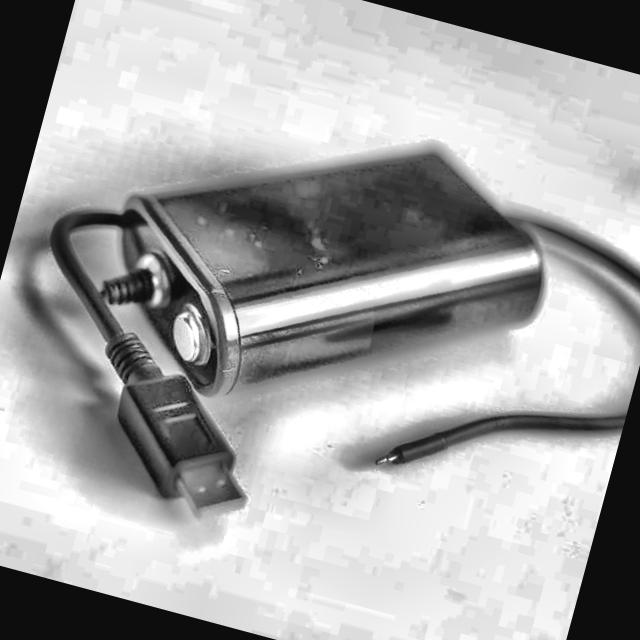Battery: (77, 70, 572, 482)
Cable: (0, 188, 310, 573), (368, 142, 640, 522)
